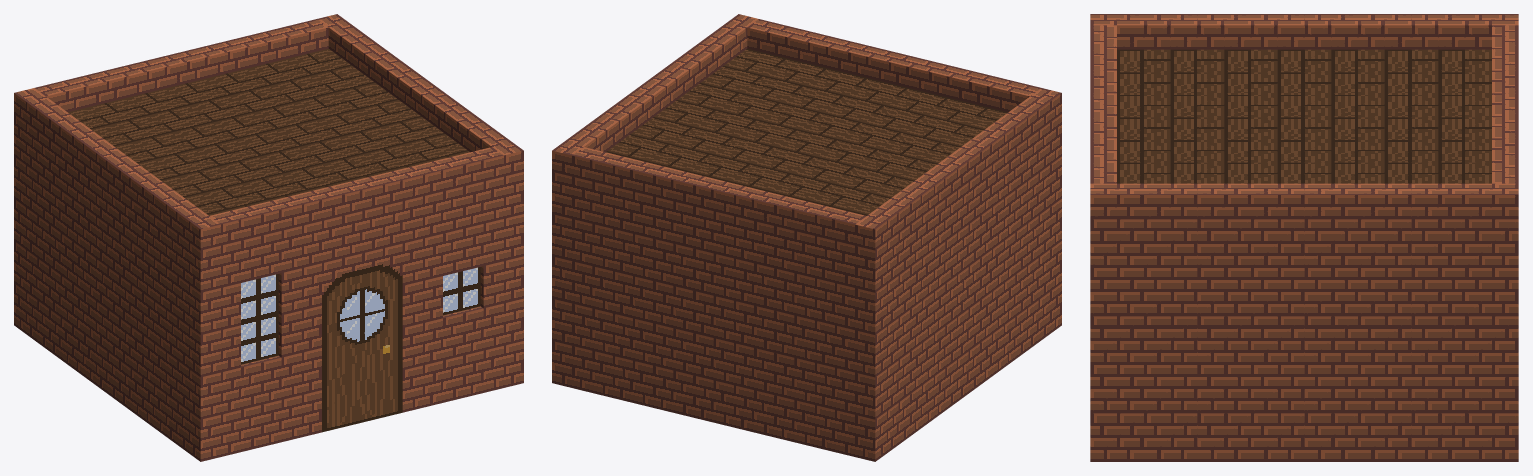
File: Little House A.gltf
The picture shows the model from 3 angles, left to right: view 1: azimuth 30°, elevation 25°; view 2: azimuth 150°, elevation 25°; view 3: azimuth 270°, elevation 25°; orthographic projection. The views are drawn at different scales.
Size of the model in its own units: 8 by 5.5 by 8.
2 materials, 2 textured.
